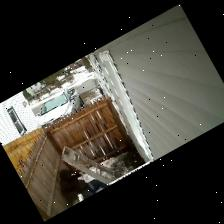person: (60, 169, 108, 203)
